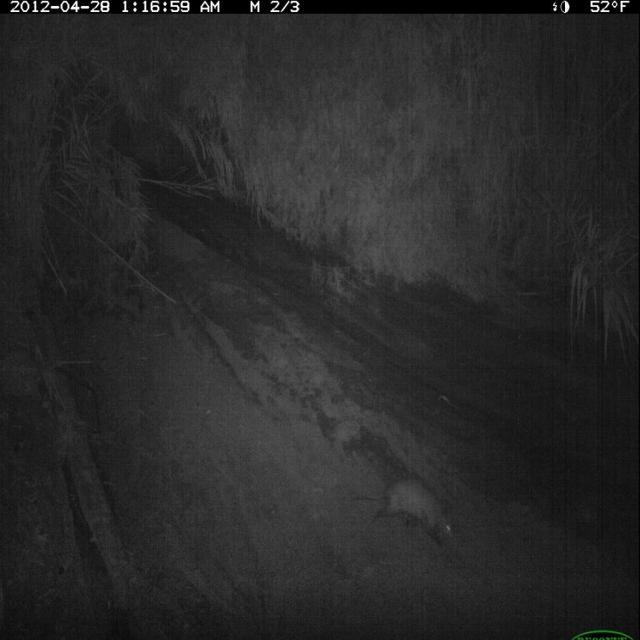opossum: (348, 471, 460, 551)
